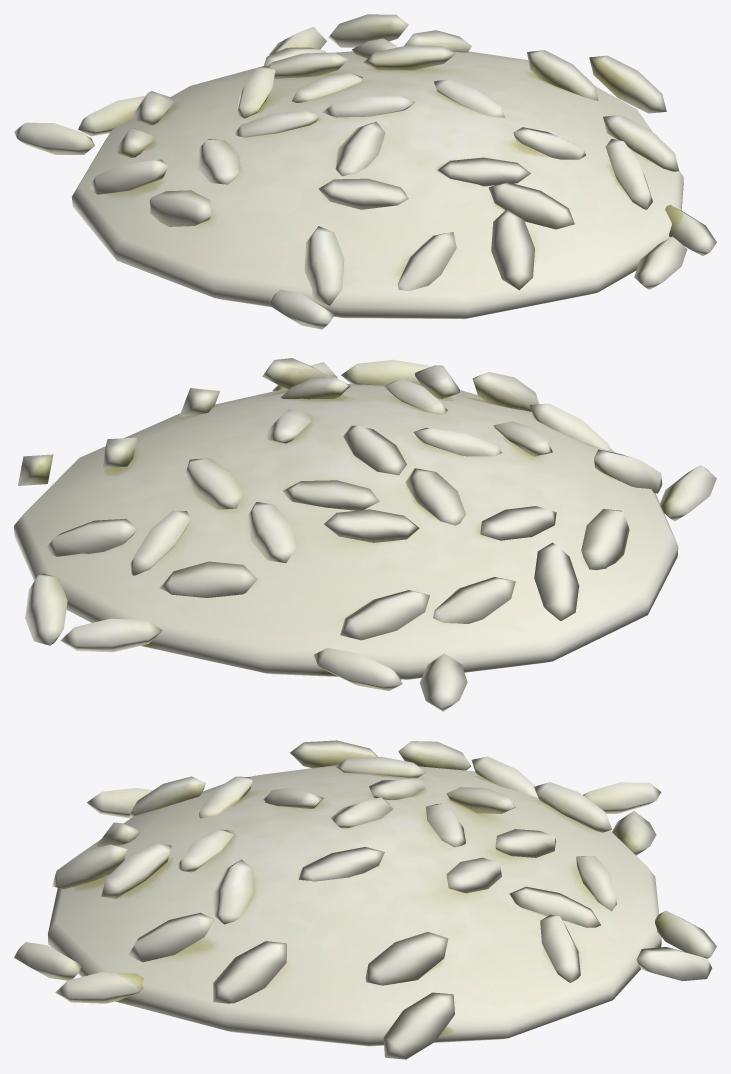
Rendered from Rice.fbx.
3 views of the same model, one above another, from view 1: azimuth 30°, elevation 25°; view 2: azimuth 150°, elevation 25°; view 3: azimuth 270°, elevation 25° (orthographic). The views are drawn at different scales.
Visible parts, largest first — view 1: m_plated_rice_01; view 2: m_plated_rice_01; view 3: m_plated_rice_01.
Part boxes in pixels (<box>): m_plated_rice_01: <box>14,14,716,329</box>; m_plated_rice_01: <box>14,358,716,711</box>; m_plated_rice_01: <box>14,740,716,1059</box>.
Bounding box in the file's own units: 90.82 × 16.89 × 95.95.
